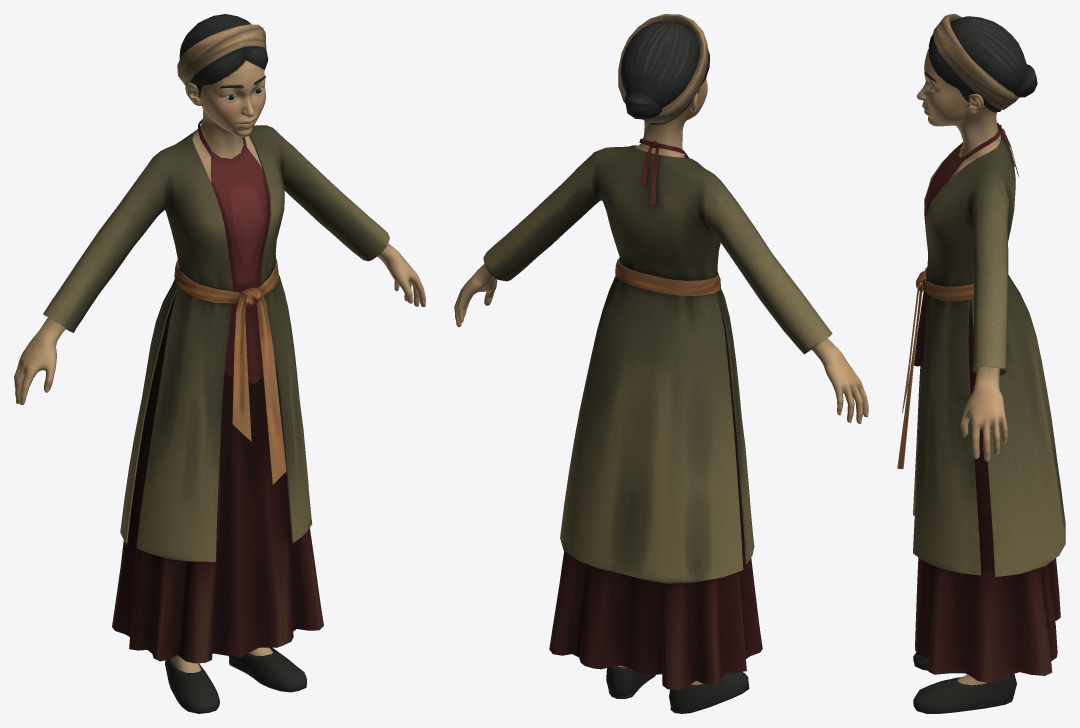
Rendered from Cam_blendshape.fbx.
The picture shows the model from 3 angles, left to right: view 1: azimuth 30°, elevation 25°; view 2: azimuth 150°, elevation 25°; view 3: azimuth 270°, elevation 25°; orthographic projection.
Visible parts, largest first — view 1: Cam_cloth, Cam_body_base, Cam_shose; view 2: Cam_cloth, Cam_body_base, Cam_shose; view 3: Cam_cloth, Cam_body_base, Cam_shose.
Boxes of the visible parts, x1=… form: Cam_cloth: x1=43, y1=24, x2=389, y2=663; Cam_body_base: x1=14, y1=14, x2=425, y2=672; Cam_shose: x1=165, y1=647, x2=307, y2=713; Cam_cloth: x1=483, y1=14, x2=832, y2=690; Cam_body_base: x1=454, y1=20, x2=868, y2=684; Cam_shose: x1=606, y1=666, x2=749, y2=713; Cam_cloth: x1=897, y1=14, x2=1065, y2=682; Cam_body_base: x1=917, y1=16, x2=1037, y2=685; Cam_shose: x1=913, y1=652, x2=1016, y2=713.
Size of the model in its own units: 104 by 162 by 37.23.
